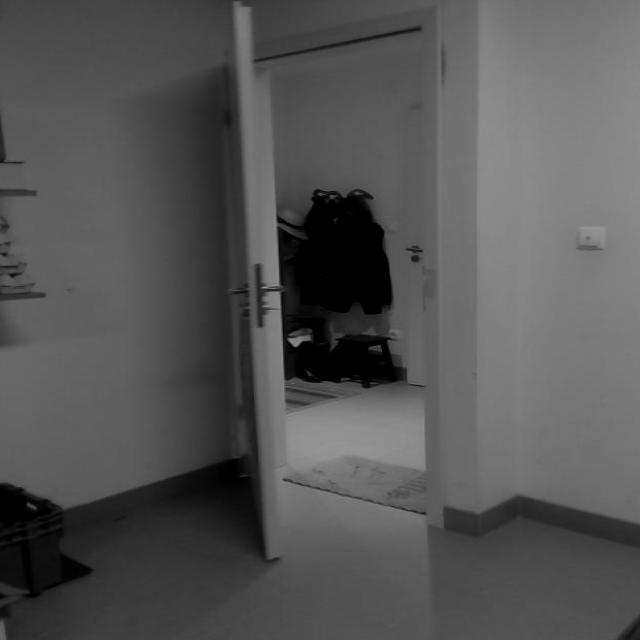door: (212, 4, 304, 562)
